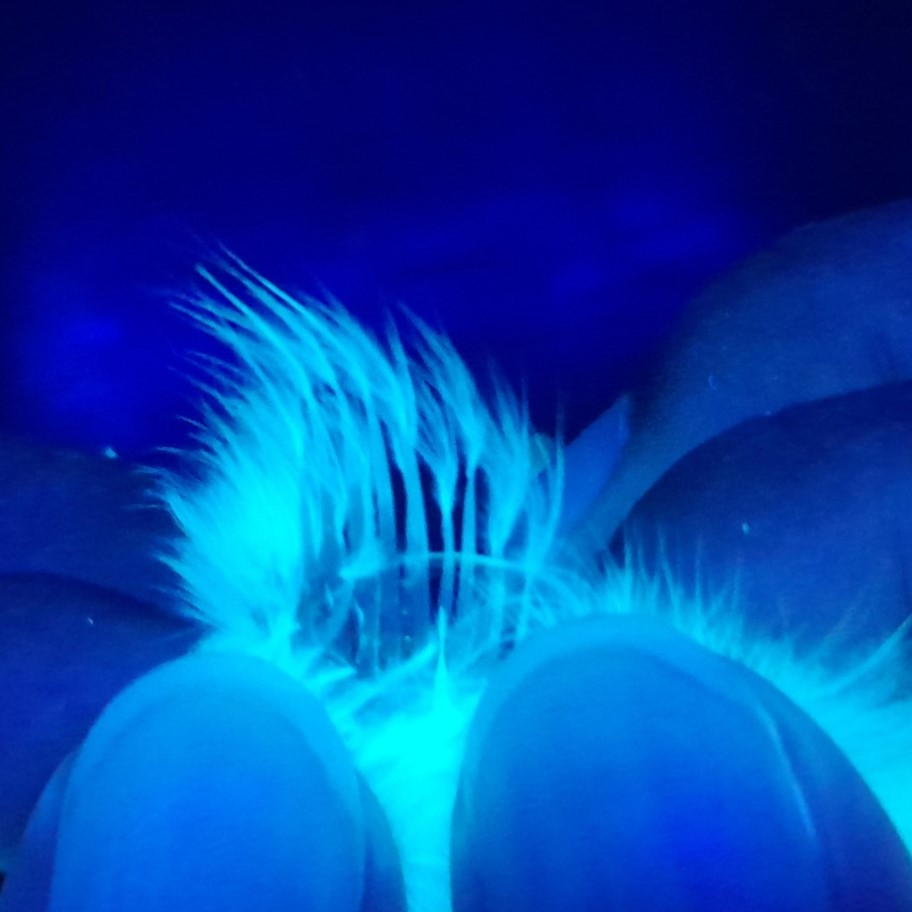male: (287, 421, 551, 706)
